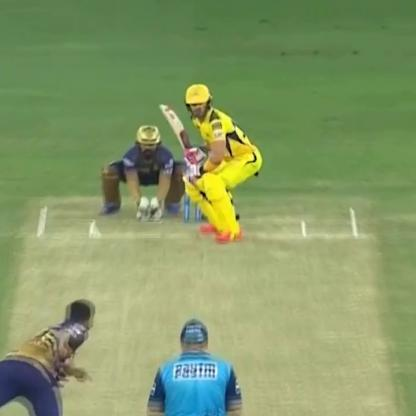ball: (90, 223, 106, 241)
bat: (159, 97, 199, 175)
pitch: (7, 197, 396, 416)
